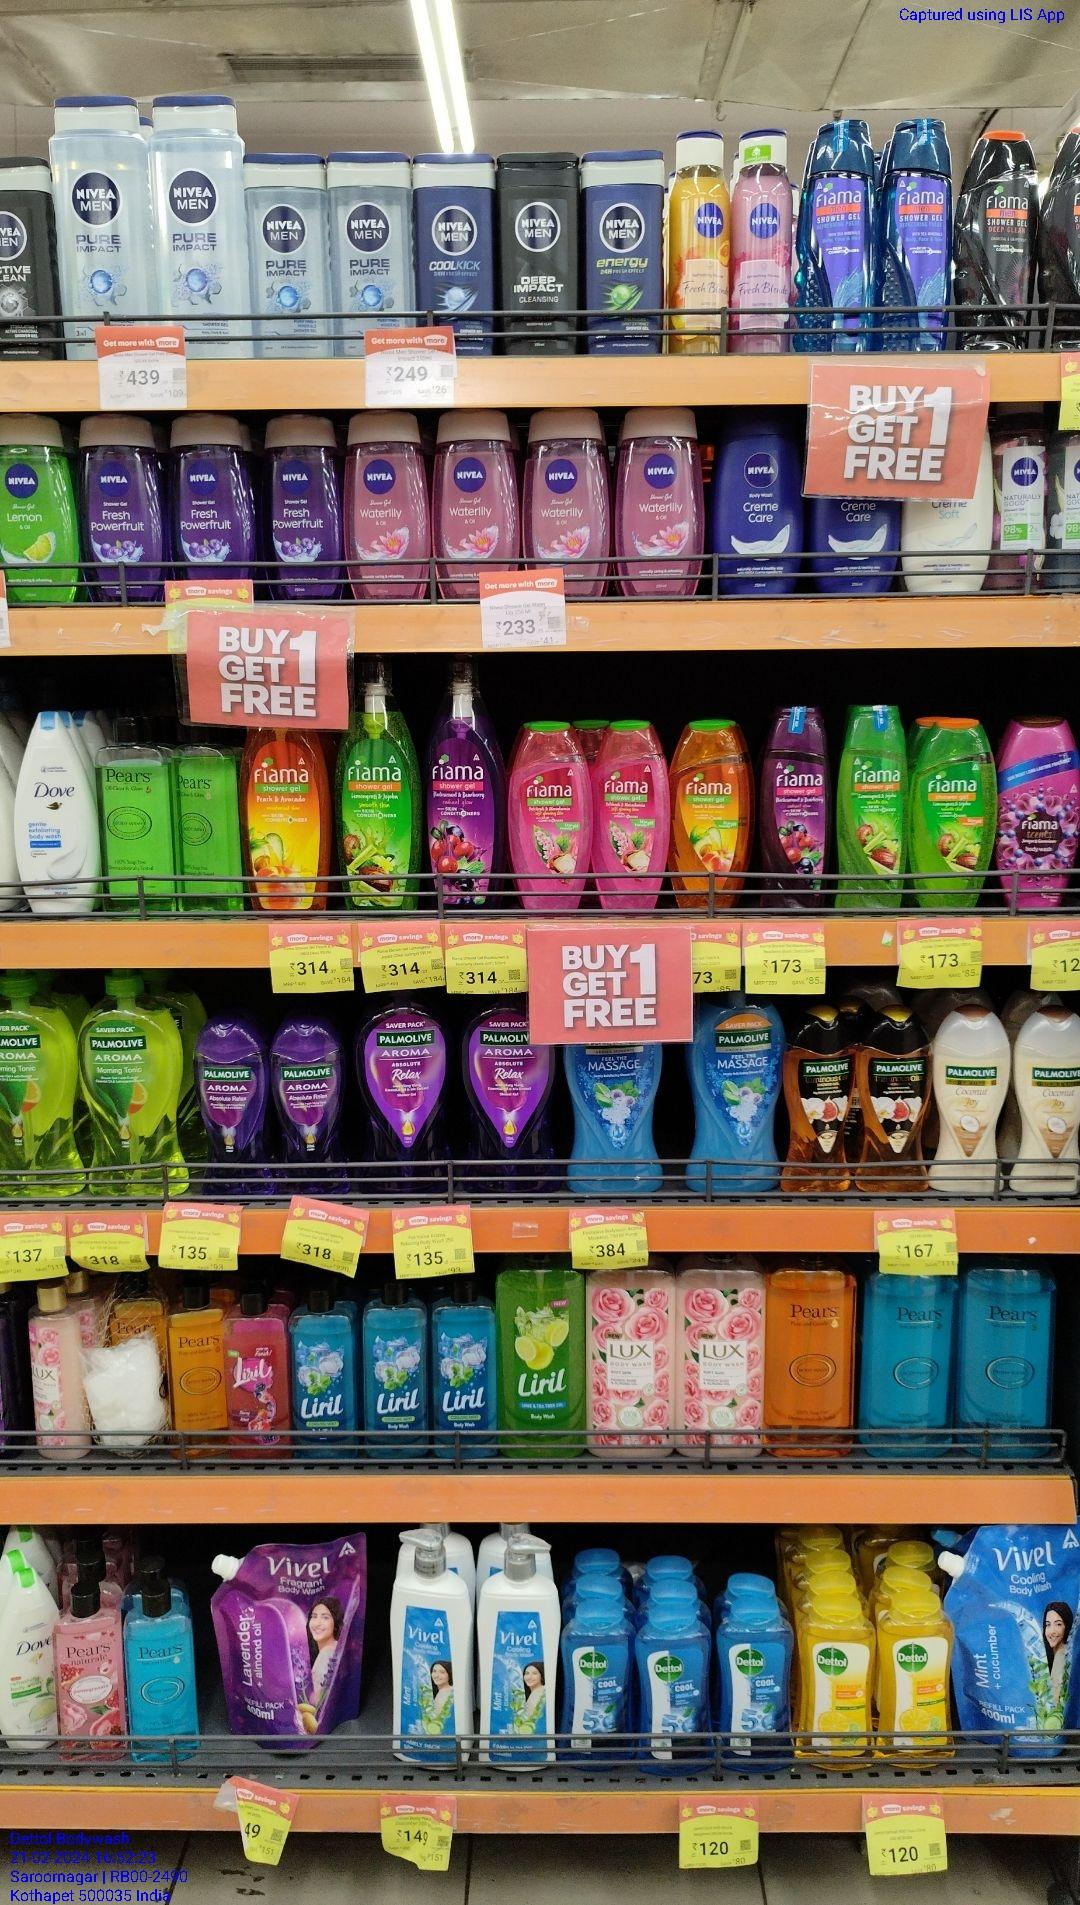Dettol_Bodywash_Cool: (715, 1587, 793, 1777), (635, 1588, 713, 1772), (559, 1595, 631, 1761)
Dettol_Bodywash_Refresh: (796, 1592, 881, 1773), (877, 1591, 953, 1765)
Dove_Gentle_Exfoliating_Body_Wash_250ML: (14, 705, 101, 916)
Fiama_Shower_Gel_Lemongrass_and_Jojoba_250ML: (903, 716, 1000, 908)
Fiama_Shower_Gel_Patchouli_and_Macadamia_250ML: (505, 717, 592, 912), (592, 714, 669, 909)
Fiama_Shower_Gel_Peach_and_Avocado_250ML: (670, 717, 750, 905)
Liril_Lime_and_Tea_Tree_Oil_Body_Wash_250ML: (500, 1255, 585, 1464)
Nivea_Creme_Care_Body_Wash_250ML: (712, 416, 806, 594)
Nivea_Shower_Gel_Fresh_Powerfruit_250ML: (75, 412, 168, 602), (166, 412, 261, 580), (261, 407, 339, 601)
Nivea_Shower_Gel_Lemon_and_Oil_250ML: (0, 412, 76, 607)
Nivea_Shower_Gel_Waterlily_and_Oil_250ML: (611, 407, 703, 599), (428, 407, 521, 595), (342, 404, 431, 601), (522, 410, 610, 595)
Palmolive_Aroma_Relax_250ML: (194, 1017, 270, 1200), (271, 1010, 344, 1195)
Palmolive_Coconut_Joy_Exfoliating_Body_Wash_250ML: (927, 1000, 1011, 1196), (1009, 1000, 1080, 1201)
Palmolive_Luminous_Oils_With_White_Orchid_Shower_Gel_250ML: (778, 1004, 855, 1196), (857, 1002, 929, 1192)
Pears_Pure_Glycerin_and_Lemon_Flower_Extracts_Body_Wash_250ML: (99, 713, 171, 915), (175, 724, 241, 916)
Pears_Pure_Glycerin_and_Mint_Extracts_Body_Wash_250ML: (958, 1252, 1058, 1463), (859, 1273, 958, 1463)
